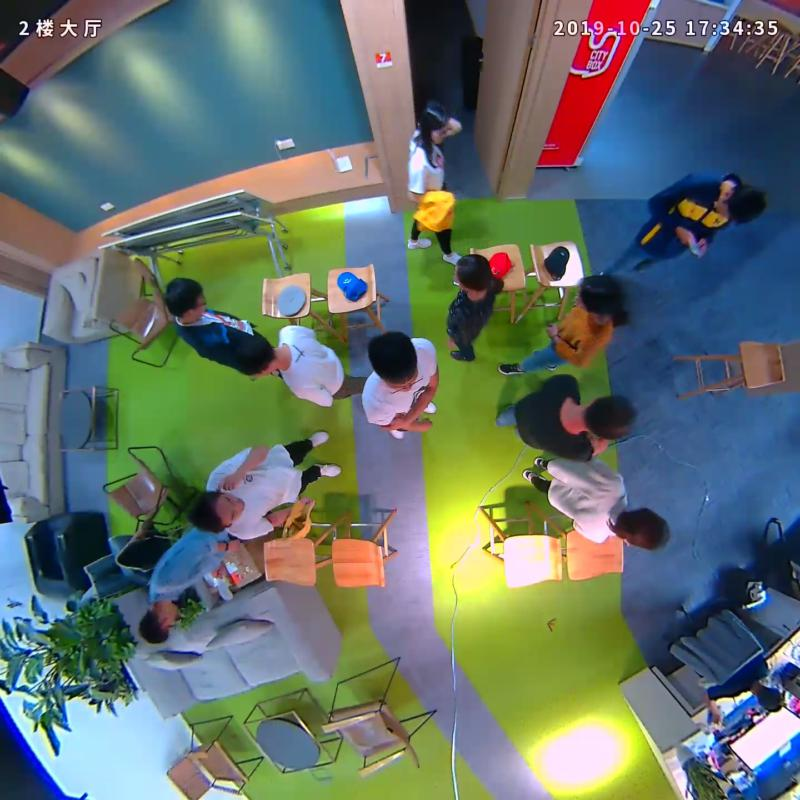head: (364, 329, 433, 394), (218, 326, 279, 384), (581, 393, 642, 446), (182, 485, 245, 536), (615, 501, 674, 555), (576, 269, 631, 323), (715, 173, 766, 230), (447, 251, 498, 303), (160, 273, 210, 323), (412, 99, 455, 150)
